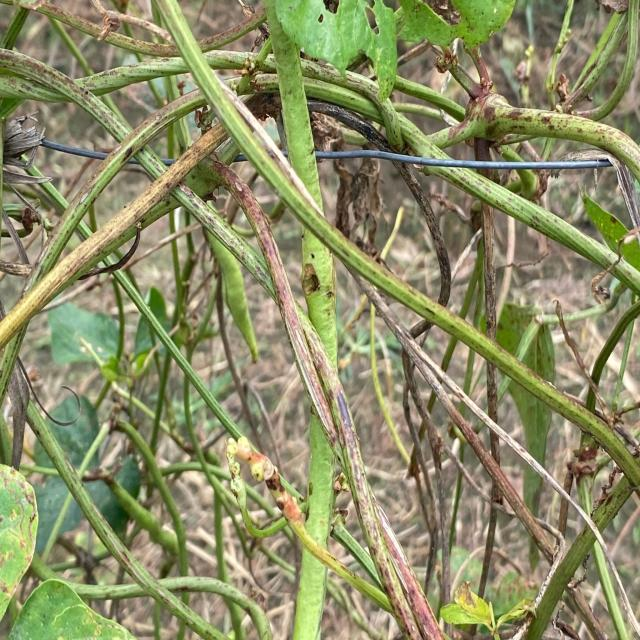sitaw-aphid-moderate: (0, 50, 231, 327), (0, 124, 228, 350), (379, 65, 640, 259), (427, 94, 640, 180), (302, 60, 390, 126)
sitaw-moderate: (181, 78, 629, 455), (269, 25, 322, 218), (301, 225, 337, 369), (306, 406, 336, 545), (294, 551, 326, 640)
